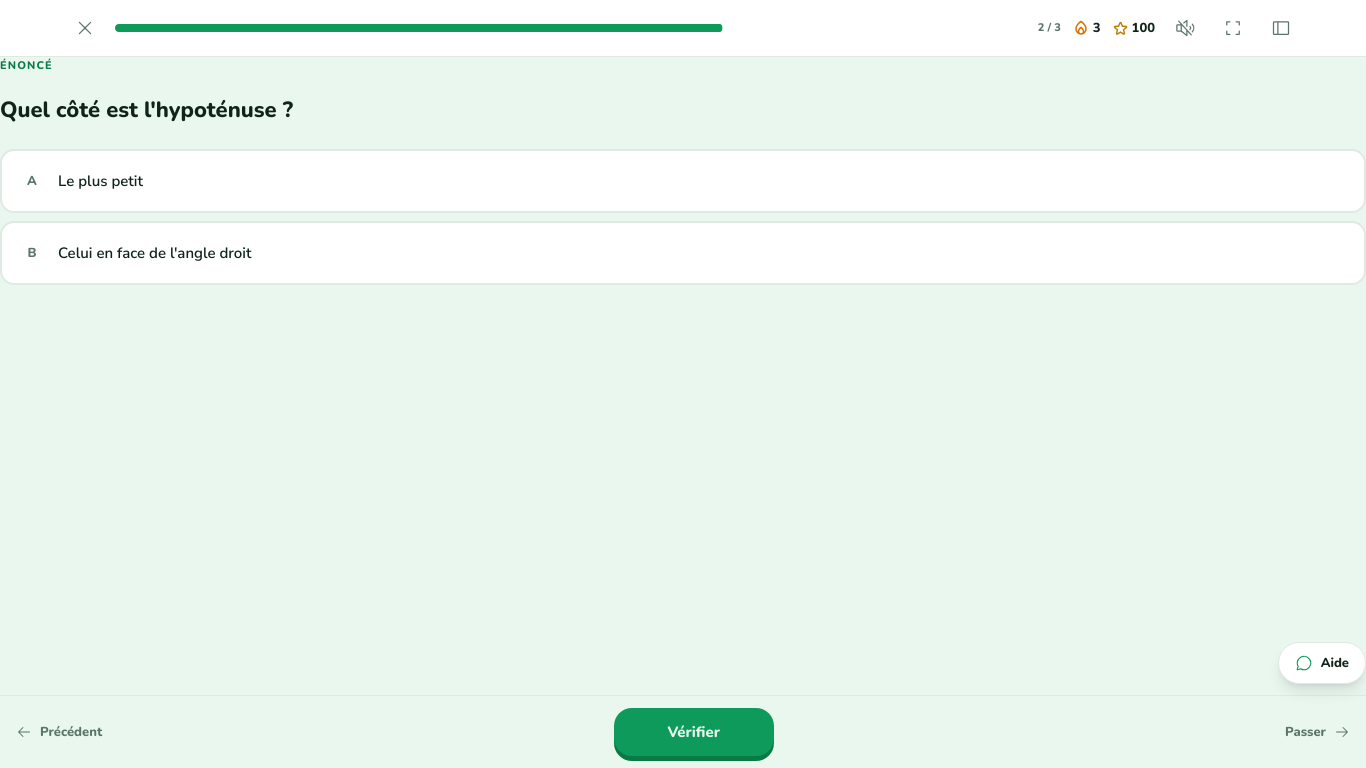
it: interactive mode — the rewards of an exercise (#248) › moves nothing under reduced motion, and the counter shows the real total at once
Expected: the button "Vérifier" is shown, top-left (614, 708), bottom-right (774, 756)
Click the button with aria-label "Option B:": (155,253) top-left (0, 221), bottom-right (1365, 285)
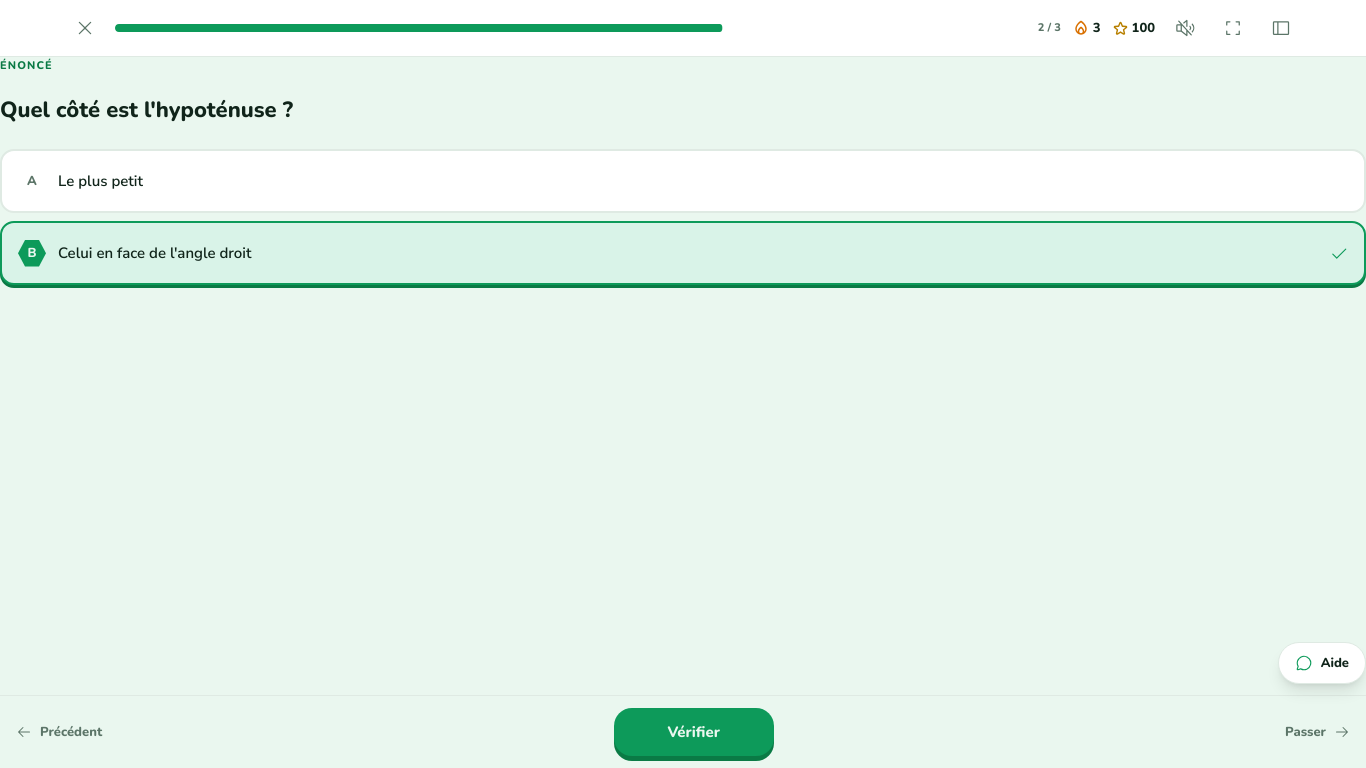
Click the button "Vérifier": (694,732) top-left (614, 708), bottom-right (774, 756)
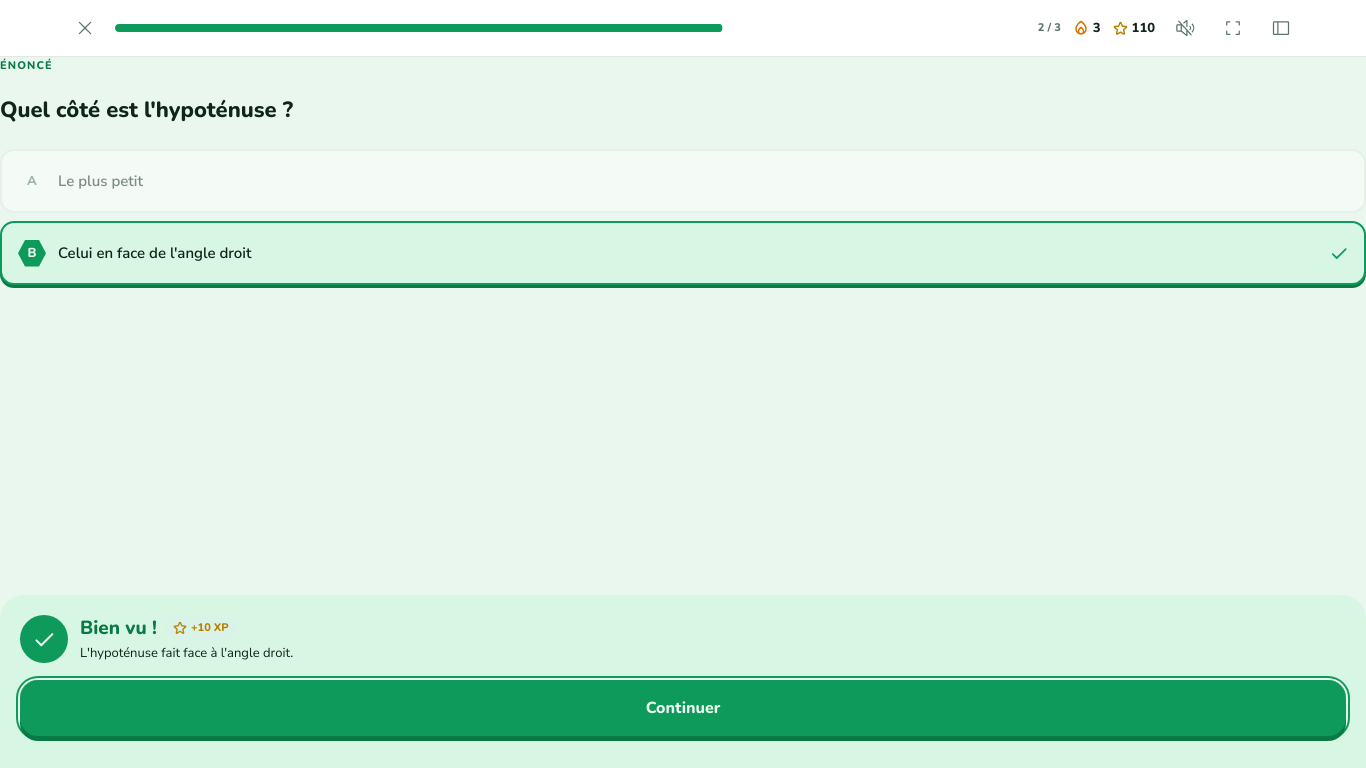
Result: the text "+10 XP" is shown at top-left (165, 617), bottom-right (237, 639)
Result: the element showing "110" is shown at top-left (1113, 18), bottom-right (1155, 38)
